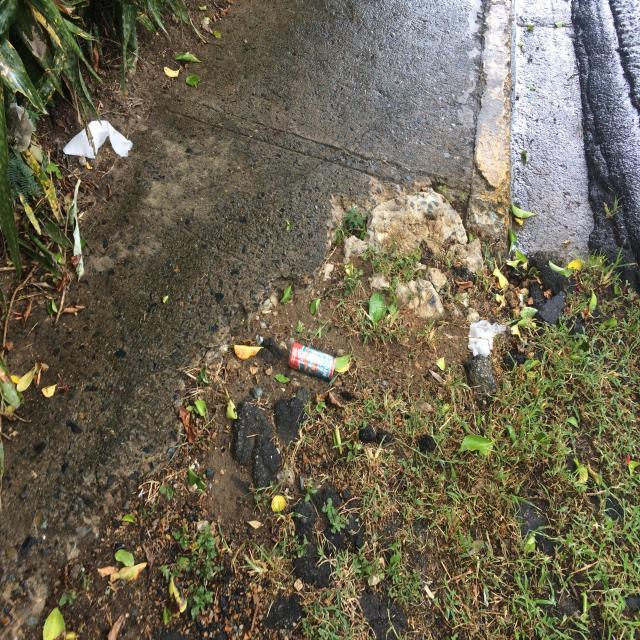litter: (63, 121, 133, 158), (288, 342, 336, 380), (469, 320, 506, 358)
